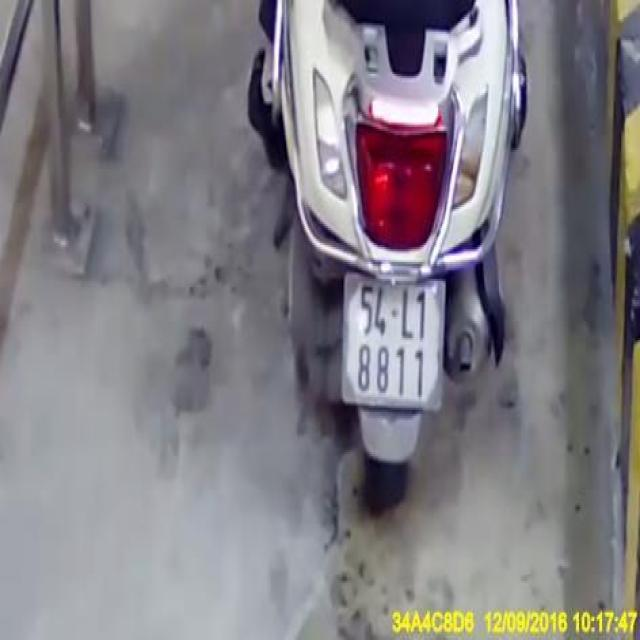bien_so: (340, 268, 445, 414)
